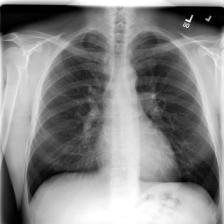normal: (22, 28, 222, 208)
